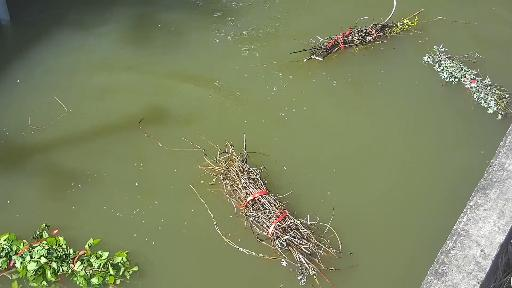twig: (148, 108, 311, 275), (270, 3, 470, 79), (0, 209, 136, 288), (437, 40, 512, 126)
